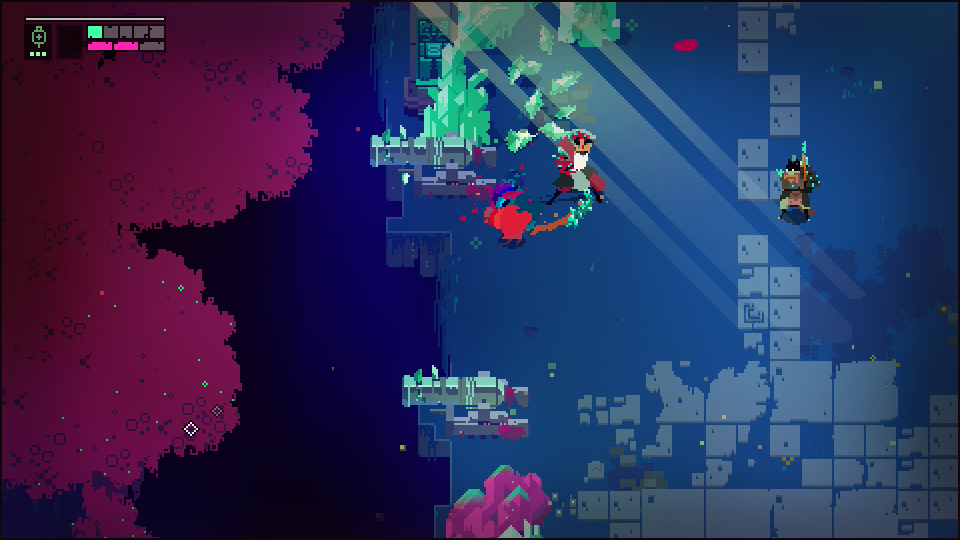hanged_man: (536, 131, 596, 225)
player: (490, 199, 530, 238)
